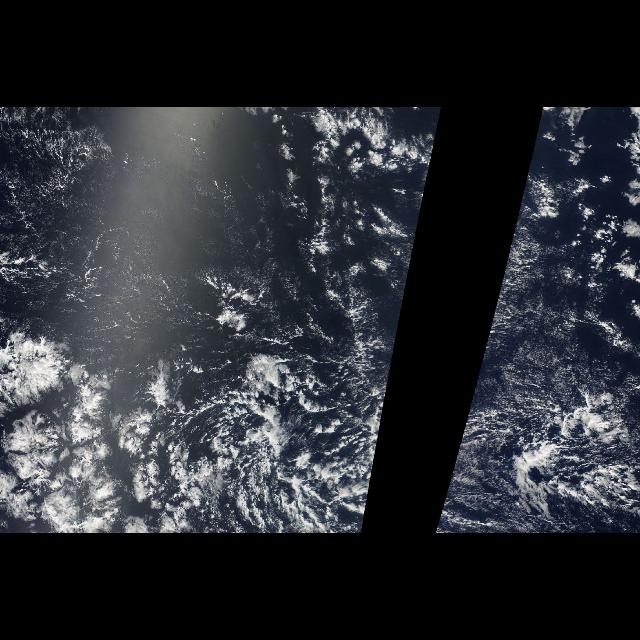Flower: (2, 315, 175, 533)
Gravel: (473, 367, 639, 533)
Sugar: (0, 107, 292, 311)
